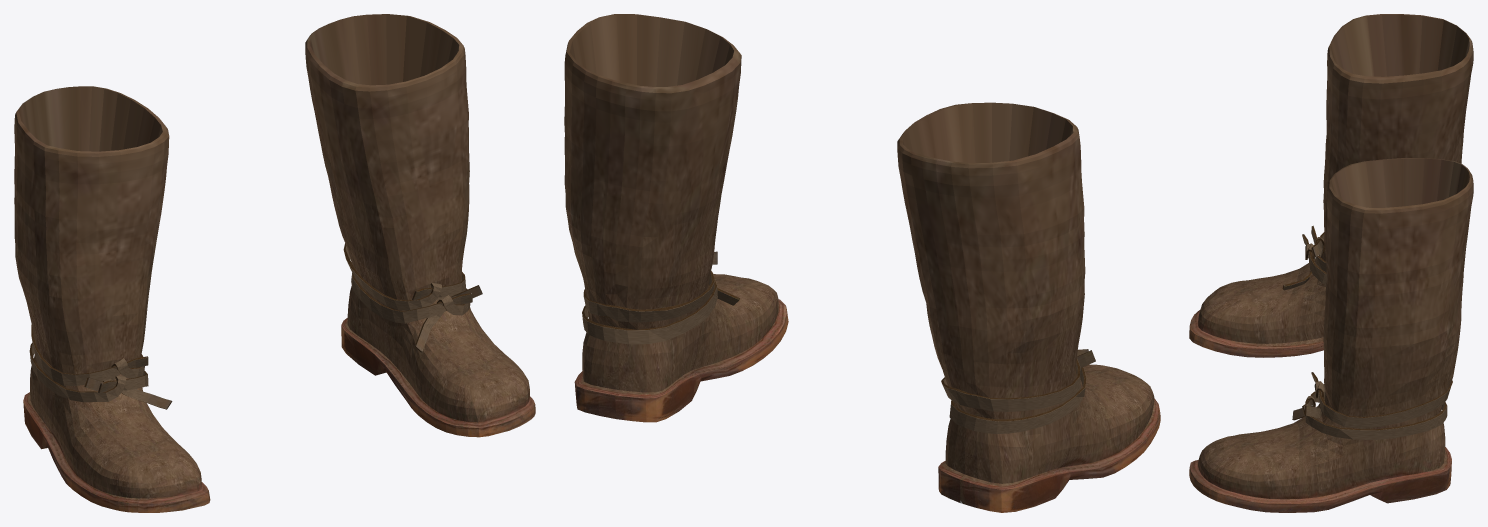
The model's file is mhw_rehmanpolanski_viking_boots.glb.
The picture shows the model from 3 angles, left to right: view 1: azimuth 30°, elevation 25°; view 2: azimuth 150°, elevation 25°; view 3: azimuth 270°, elevation 25°; orthographic projection. The views are drawn at different scales.
Parts seen in each view (by area): view 1: mhw_rehmanpolanski_viking_boots; view 2: mhw_rehmanpolanski_viking_boots; view 3: mhw_rehmanpolanski_viking_boots.
Part boxes in pixels (left/top/right/bottom): mhw_rehmanpolanski_viking_boots: left=14, top=14, right=535, bottom=512; mhw_rehmanpolanski_viking_boots: left=564, top=14, right=1160, bottom=512; mhw_rehmanpolanski_viking_boots: left=1189, top=14, right=1473, bottom=512.
Size of the model in its own units: 0.5514 by 0.3887 by 0.3302.
Materials: 1 (1 with a texture image).
